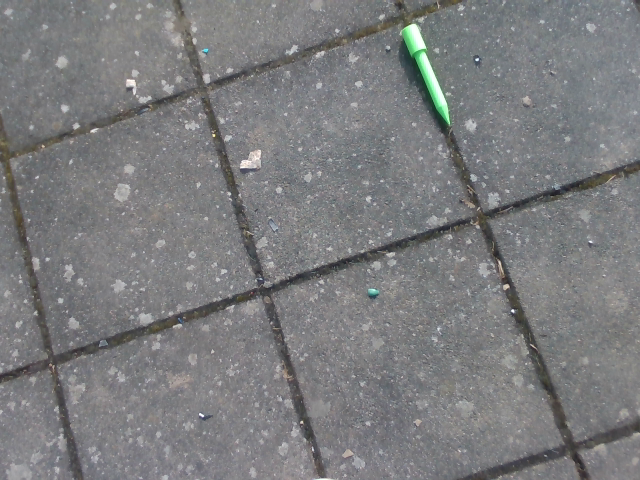Probe: (397, 19, 455, 130)
